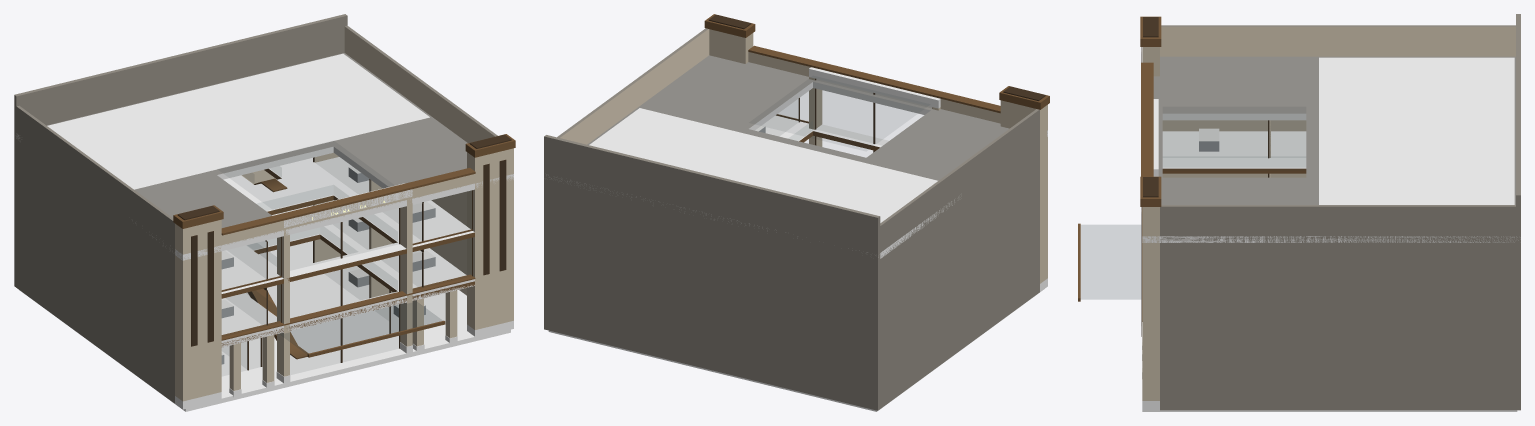
Rendered from the_promenade_galleria_lod2.glb.
3 renders of one model, left to right at view 1: azimuth 30°, elevation 25°; view 2: azimuth 150°, elevation 25°; view 3: azimuth 270°, elevation 25°, orthographic. The views are drawn at different scales.
Parts seen in each view (by area): view 1: B05_LOD2_BUILDING_EXTERIOR_Stone, B05_LOD2_BUILDING_EXTERIOR_Roof, B05_LOD2_BUILDING_INTERIOR_GroundSlab, B05_LOD2_BUILDING_EXTERIOR_RearInterface, B05_LOD2_BUILDING_INTERIOR_L2Slab, B05_LOD2_BUILDING_INTERIOR_L1Slab, B05_LOD2_FACADE_DETAILS_Bronze, B05_LOD2_FACADE_DETAILS_Canopy, B05_LOD2_GLASS_SYSTEM_TowerSlots, B05_LOD2_DISPLAY_OBJECTS_Merch, B05_LOD2_BUILDING_INTERIOR_Shopfronts, B05_LOD2_BUILDING_INTERIOR_EscalatorUp1 (+1 smaller); view 2: B05_LOD2_BUILDING_EXTERIOR_Stone, B05_LOD2_BUILDING_EXTERIOR_Roof, B05_LOD2_BUILDING_EXTERIOR_RearInterface, B05_LOD2_FACADE_DETAILS_Bronze, B05_LOD2_BUILDING_INTERIOR_L2Slab, B05_LOD2_BUILDING_INTERIOR_GroundSlab; view 3: B05_LOD2_BUILDING_EXTERIOR_Stone, B05_LOD2_BUILDING_EXTERIOR_Roof, B05_LOD2_BUILDING_INTERIOR_L2Slab, B05_LOD2_FACADE_DETAILS_Canopy, B05_LOD2_FACADE_DETAILS_Bronze, B05_LOD2_BUILDING_EXTERIOR_RearInterface, B05_LOD2_BUILDING_INTERIOR_GroundSlab, B05_LOD2_DISPLAY_OBJECTS_Merch.
Part boxes in pixels (bbox=[...]): B05_LOD2_BUILDING_EXTERIOR_Stone: bbox=[14, 25, 513, 409]; B05_LOD2_BUILDING_EXTERIOR_Roof: bbox=[16, 53, 513, 260]; B05_LOD2_BUILDING_INTERIOR_GroundSlab: bbox=[19, 241, 510, 411]; B05_LOD2_BUILDING_EXTERIOR_RearInterface: bbox=[14, 14, 347, 287]; B05_LOD2_BUILDING_INTERIOR_L2Slab: bbox=[221, 157, 474, 298]; B05_LOD2_BUILDING_INTERIOR_L1Slab: bbox=[221, 205, 474, 346]; B05_LOD2_FACADE_DETAILS_Bronze: bbox=[173, 134, 515, 340]; B05_LOD2_FACADE_DETAILS_Canopy: bbox=[280, 301, 445, 357]; B05_LOD2_GLASS_SYSTEM_TowerSlots: bbox=[191, 159, 506, 346]; B05_LOD2_DISPLAY_OBJECTS_Merch: bbox=[221, 166, 435, 364]; B05_LOD2_BUILDING_INTERIOR_Shopfronts: bbox=[241, 152, 423, 297]; B05_LOD2_BUILDING_INTERIOR_EscalatorUp1: bbox=[247, 288, 308, 359]; B05_LOD2_BUILDING_EXTERIOR_Stone: bbox=[544, 28, 1047, 410]; B05_LOD2_BUILDING_EXTERIOR_Roof: bbox=[546, 55, 1047, 258]; B05_LOD2_BUILDING_EXTERIOR_RearInterface: bbox=[544, 135, 880, 409]; B05_LOD2_FACADE_DETAILS_Bronze: bbox=[704, 14, 1049, 113]; B05_LOD2_BUILDING_INTERIOR_L2Slab: bbox=[762, 113, 888, 150]; B05_LOD2_BUILDING_INTERIOR_GroundSlab: bbox=[548, 289, 1043, 411]; B05_LOD2_BUILDING_EXTERIOR_Stone: bbox=[1142, 25, 1520, 410]; B05_LOD2_BUILDING_EXTERIOR_Roof: bbox=[1142, 56, 1520, 242]; B05_LOD2_BUILDING_INTERIOR_L2Slab: bbox=[1162, 131, 1306, 173]; B05_LOD2_FACADE_DETAILS_Canopy: bbox=[1078, 223, 1140, 301]; B05_LOD2_FACADE_DETAILS_Bronze: bbox=[1140, 16, 1161, 321]; B05_LOD2_BUILDING_EXTERIOR_RearInterface: bbox=[1516, 14, 1520, 295]; B05_LOD2_BUILDING_INTERIOR_GroundSlab: bbox=[1142, 410, 1517, 411]; B05_LOD2_DISPLAY_OBJECTS_Merch: bbox=[1199, 128, 1219, 151].
Size of the model in its own units: 34.2 by 19.08 by 35.1.
